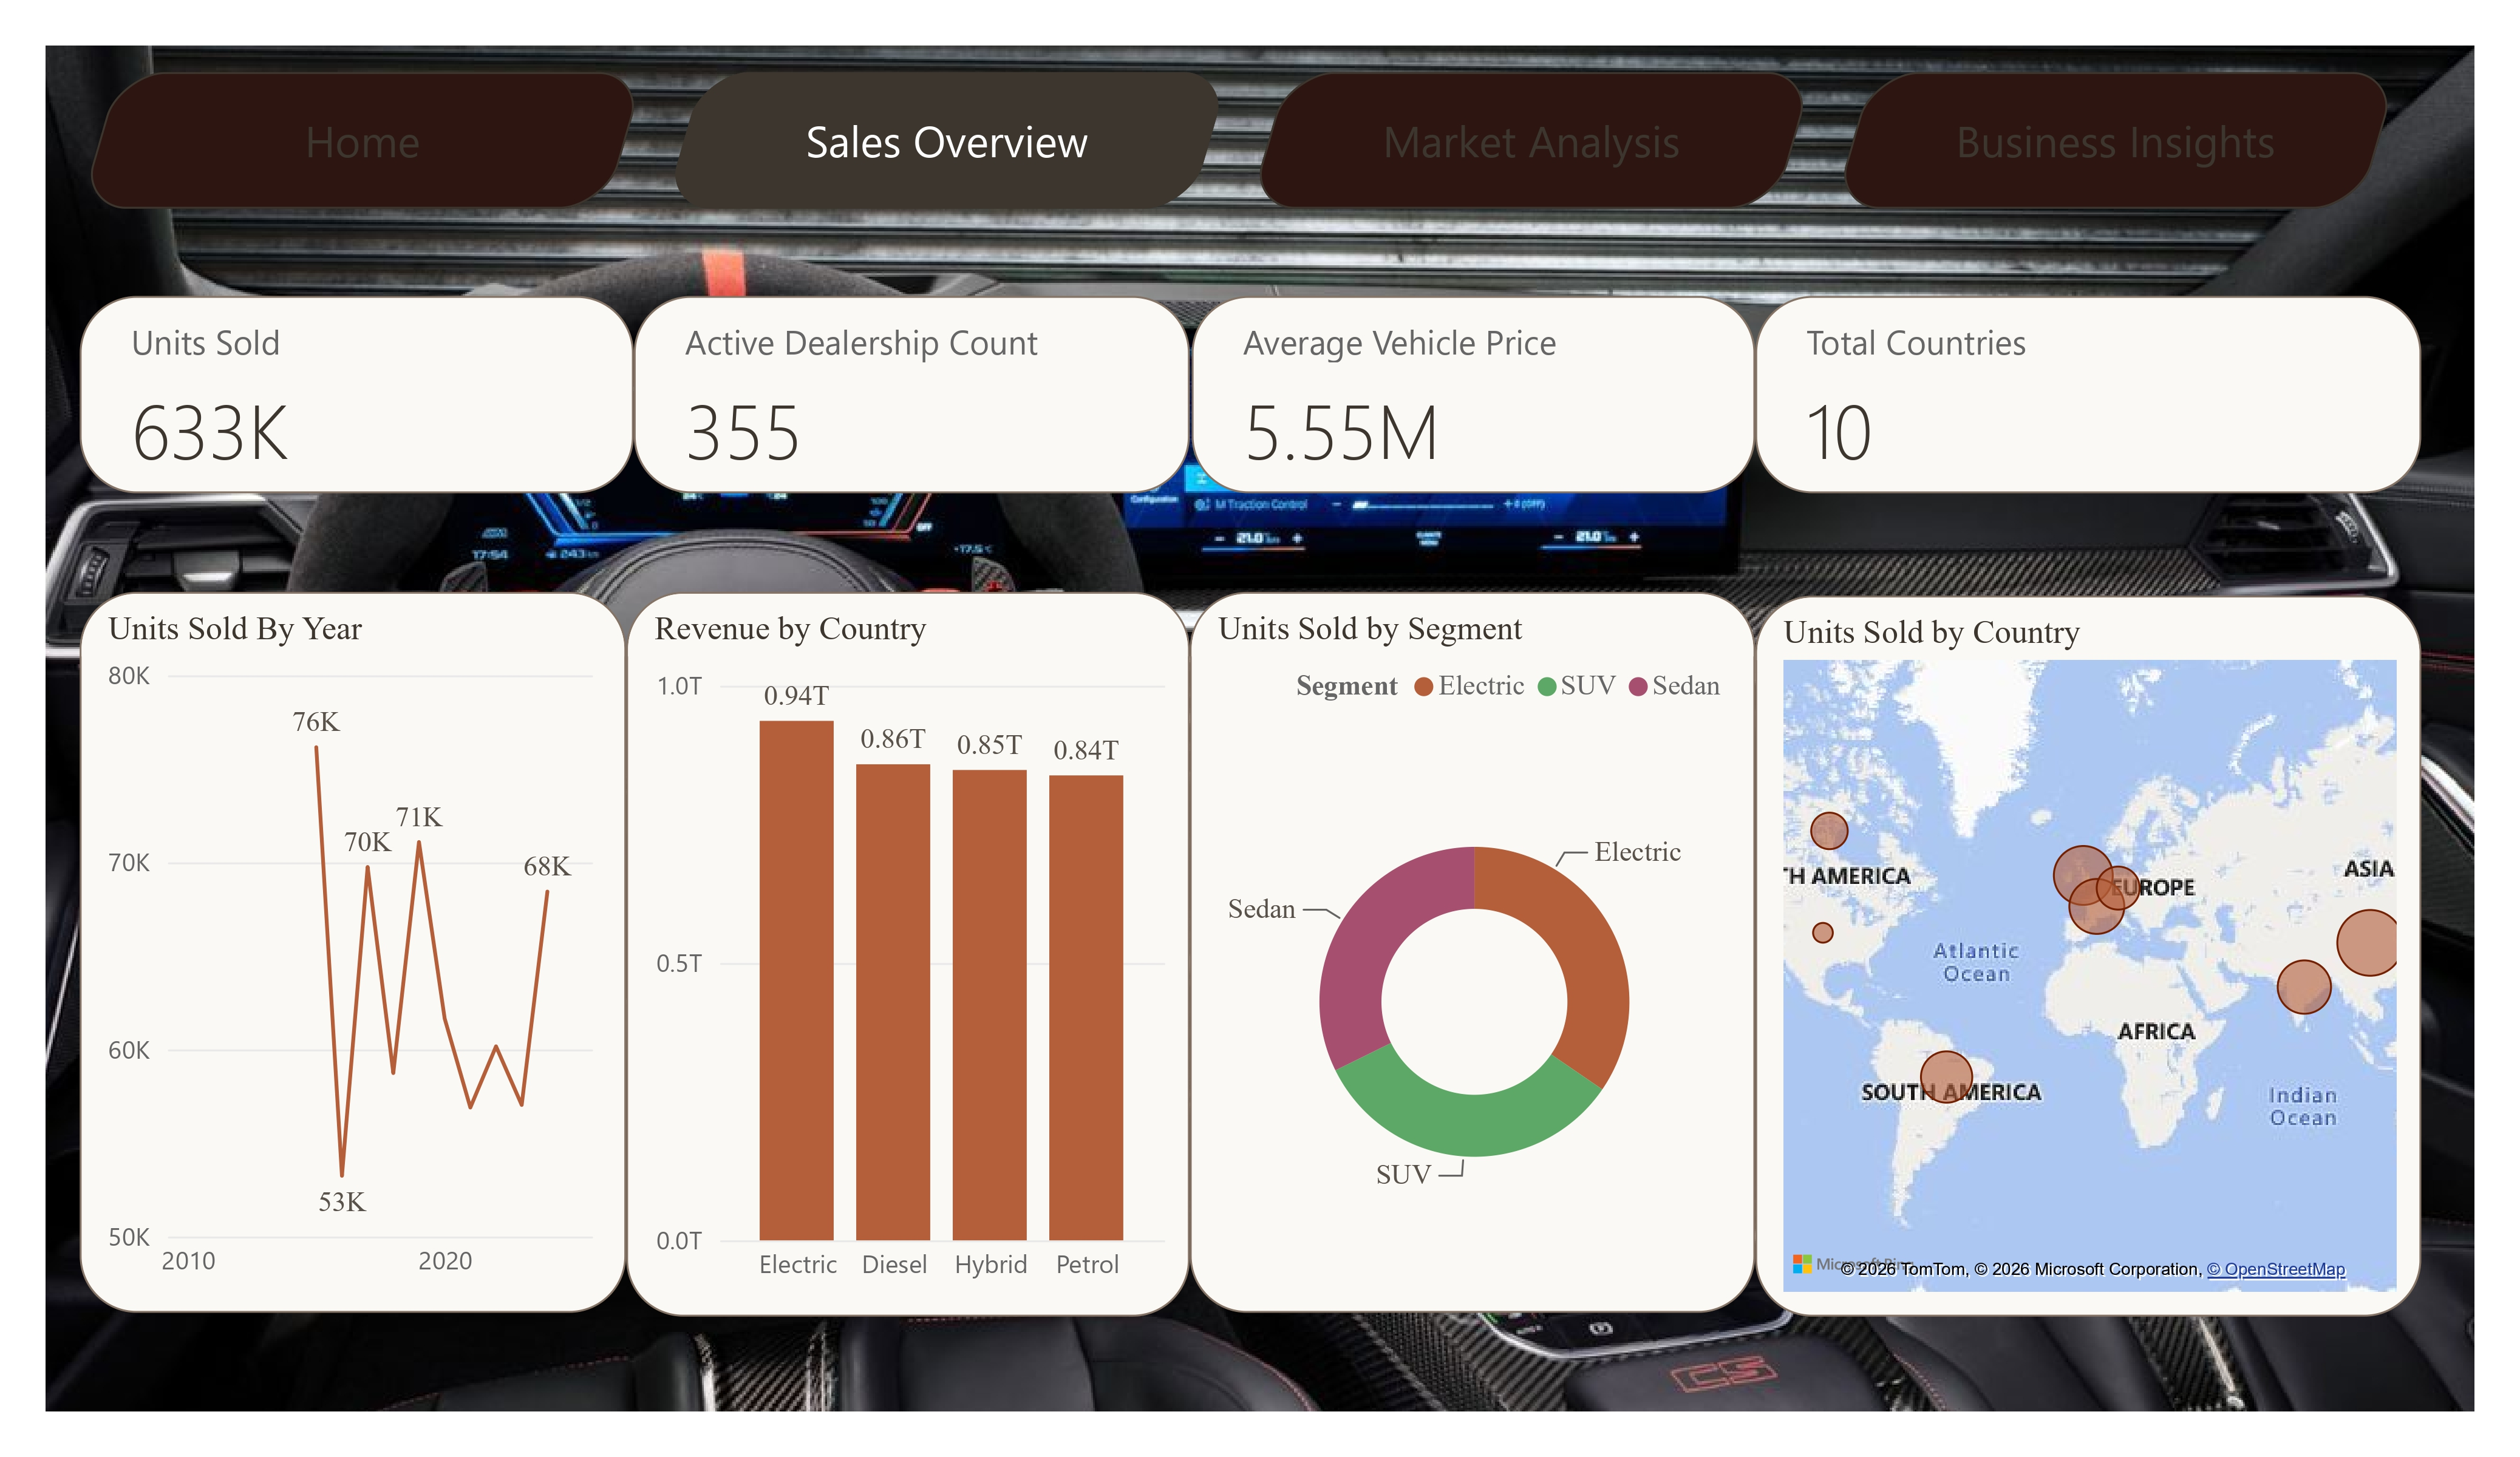

Layout of this report page (visuals, bound fields, positions):
{"tool":"powerbi","page":{"name":"Sales Overview","canvas":[1280,720],"ordinal":1},"visuals":[{"type":"lineChart","title":"Units Sold By Year","fields":{"Category":["BMW_Data_csv.Year"],"Y":["Sum(BMW_Data_csv.Model Units Sold)"]},"box":[18.1,288.3,288.3,380],"z":0},{"type":"pageNavigator","box":[18.1,14.5,1224.5,71.2],"z":1000},{"type":"clusteredColumnChart","title":"Revenue by Country","fields":{"Category":["BMW_Data_csv.Engine Type"],"Y":["BMW_Data_csv.Total Revenue"]},"box":[306.4,288.3,296.8,381.2],"z":2000},{"type":"donutChart","title":"Units Sold by Segment","fields":{"Category":["BMW_Data_csv.Segment"],"Y":["Sum(BMW_Data_csv.Model Units Sold)"]},"box":[603.2,288.3,298,380],"z":3000},{"type":"map","title":"Units Sold by Country","fields":{"Category":["BMW_Data_csv.Country"],"Size":["Sum(BMW_Data_csv.Model Units Sold)"]},"box":[901.2,289.5,351.1,380],"z":4000},{"type":"cardVisual","fields":{"Data":["Sum(BMW_Data_csv.Model Units Sold)"]},"box":[18.1,131.5,292,105],"z":5000},{"type":"cardVisual","fields":{"Data":["Count(BMW_Data_csv.Active Dealership Count)"]},"box":[310.1,131.5,293.2,105],"z":6000},{"type":"cardVisual","fields":{"Data":["Avg(BMW_Data_csv.Price_INR)"]},"box":[604.4,131.5,296.8,105],"z":7000},{"type":"cardVisual","fields":{"Data":["Count(BMW_Data_csv.Country)"]},"box":[901.2,131.5,351.1,105],"z":8000}]}

Visuals, with their boxes on the page's 1280x720 design canvas (x1, y1, x2, y2). These are canvas units, not pixel positions in the 2520x1457 screenshot, which may show the page scaled, cropped or inside an application window:
"Units Sold By Year" lineChart: box=[18, 288, 306, 668]
pageNavigator: box=[18, 14, 1243, 86]
"Revenue by Country" clusteredColumnChart: box=[306, 288, 603, 670]
"Units Sold by Segment" donutChart: box=[603, 288, 901, 668]
"Units Sold by Country" map: box=[901, 290, 1252, 670]
cardVisual - Sum(BMW_Data_csv.Model Units Sold): box=[18, 132, 310, 236]
cardVisual - Count(BMW_Data_csv.Active Dealership Count): box=[310, 132, 603, 236]
cardVisual - Avg(BMW_Data_csv.Price_INR): box=[604, 132, 901, 236]
cardVisual - Count(BMW_Data_csv.Country): box=[901, 132, 1252, 236]
